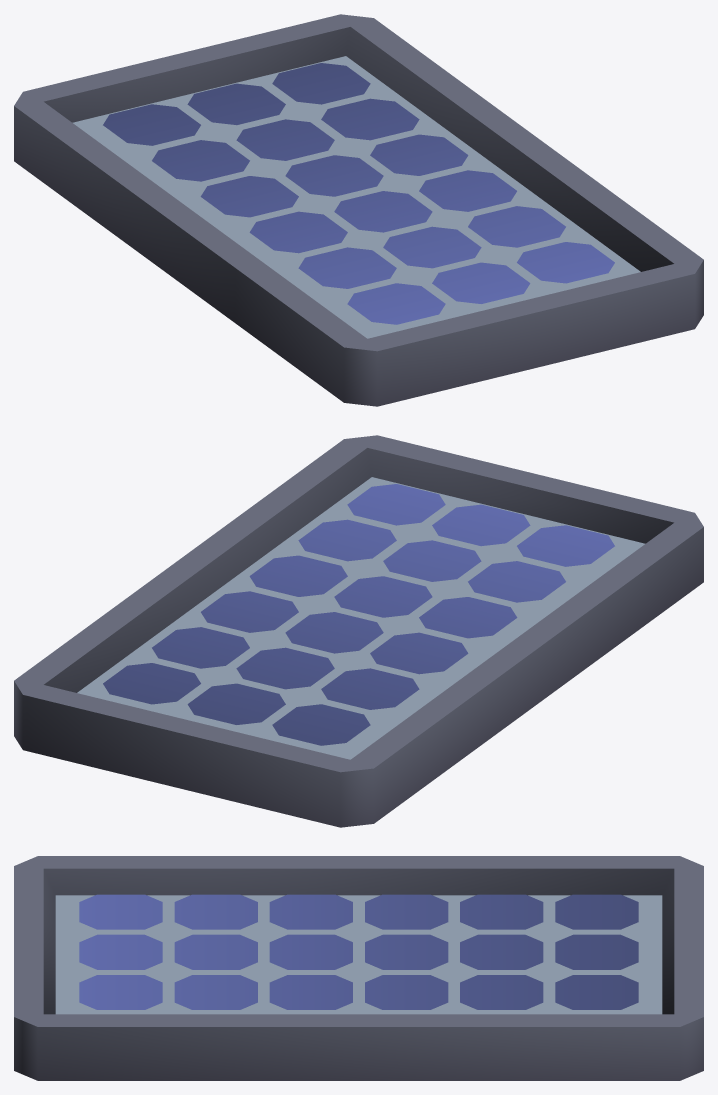
The model's file is industrial-solar-panel-flat.glb.
3 renders of one model, top to bottom at view 1: azimuth 30°, elevation 25°; view 2: azimuth 150°, elevation 25°; view 3: azimuth 270°, elevation 25°, orthographic. The views are drawn at different scales.
Parts seen in each view (by area): view 1: solar-panel-flat; view 2: solar-panel-flat; view 3: solar-panel-flat.
Part boxes in pixels (x1,y1,x2,y2): solar-panel-flat: (14, 14, 703, 406); solar-panel-flat: (14, 435, 703, 827); solar-panel-flat: (14, 856, 703, 1080).
Bounding box in the file's own units: 0.4182 × 0.0615 × 0.7134.
